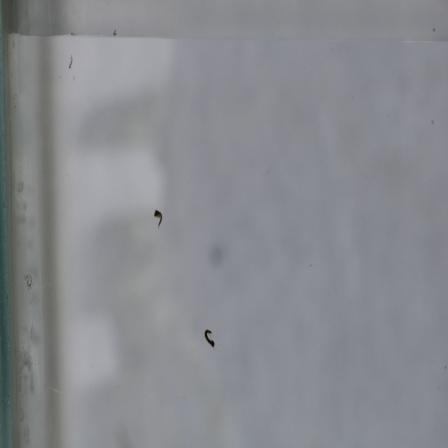Jentik-Nyamuk: (200, 324, 218, 352), (150, 204, 166, 232)
